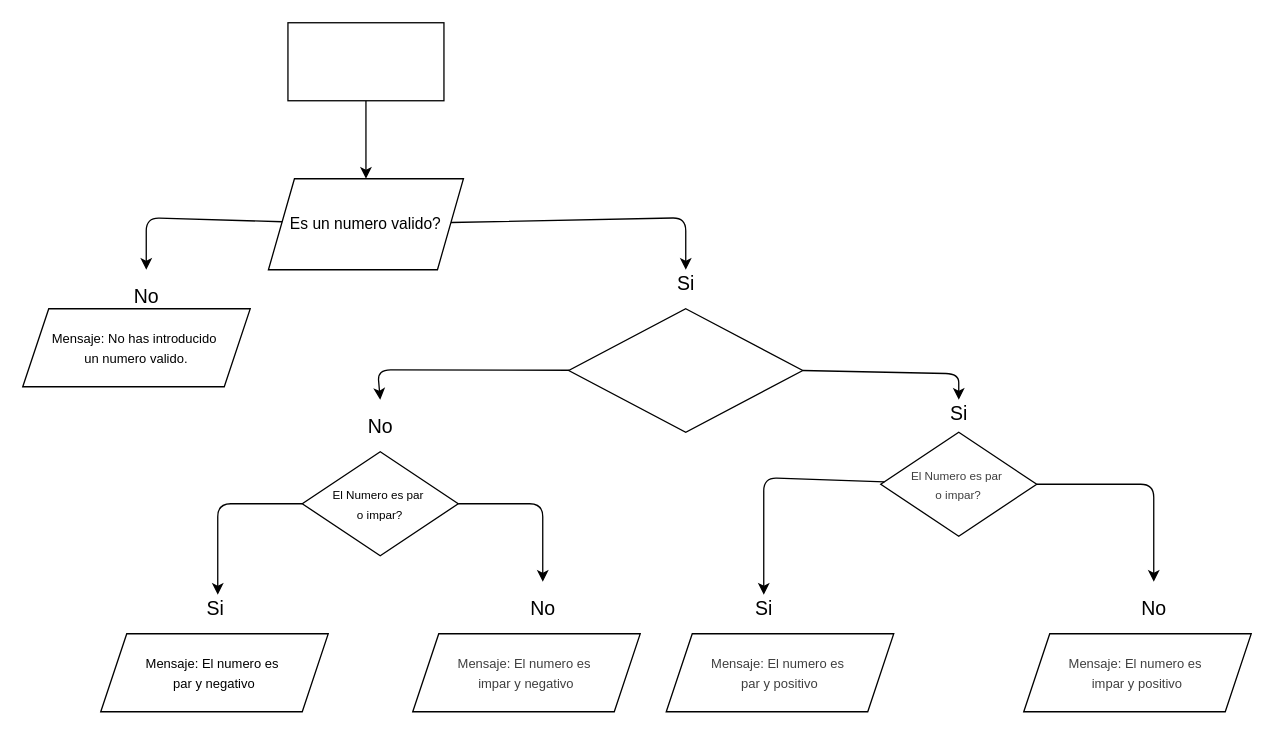
Image size: 1274x735. Some labels were removed from this diagram. Here are the shapes that lost their labels. From the top down, the box of each, then its label:
(287, 21, 444, 101): Inicio
(567, 307, 803, 432): El munero es mayor o menor que 0?
